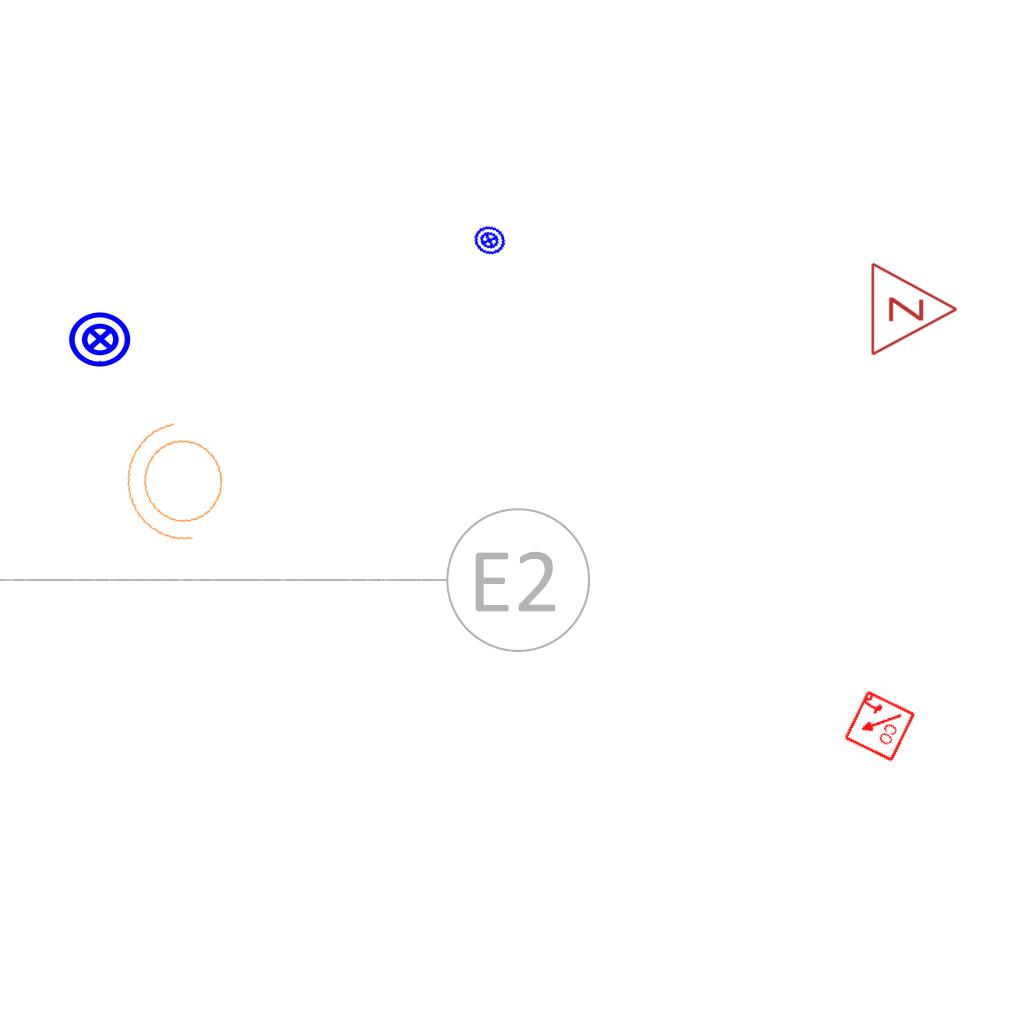ROA_Rauchmelder_optisch_mit_Signalgeber_(Sockelsirene): (841, 688, 917, 764)
Scheinwerfer_fuer_Alarmbeleuchtung: (113, 411, 245, 559)
Taster_beleuchtet: (67, 306, 133, 372), (468, 219, 511, 262)
Zimmersignalleuchte: (864, 259, 964, 357)
